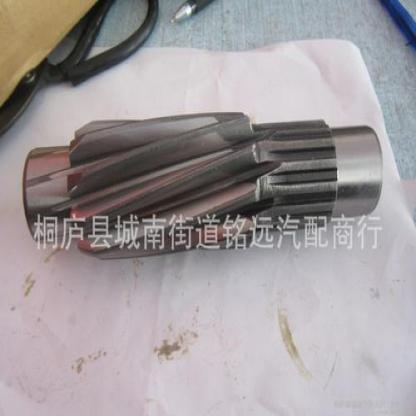FOD: (66, 105, 264, 265)
